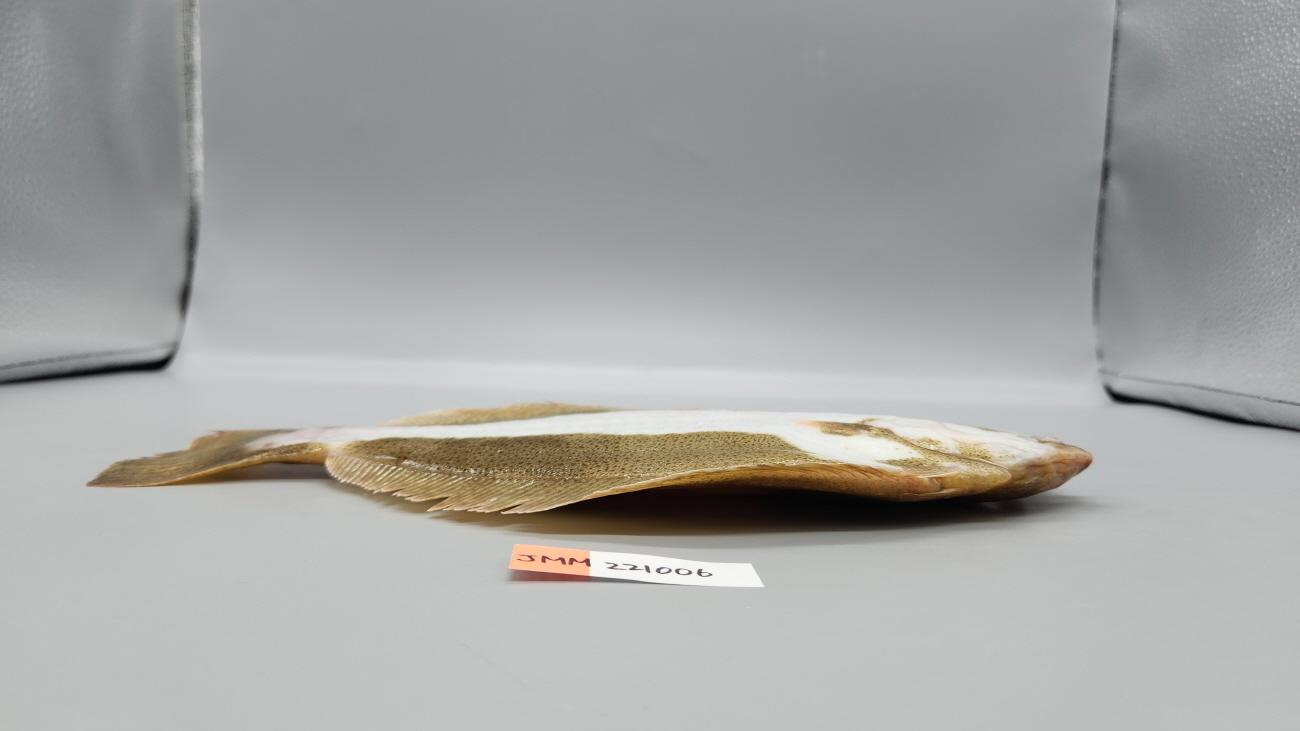POOUN: (87, 402, 1093, 517)
